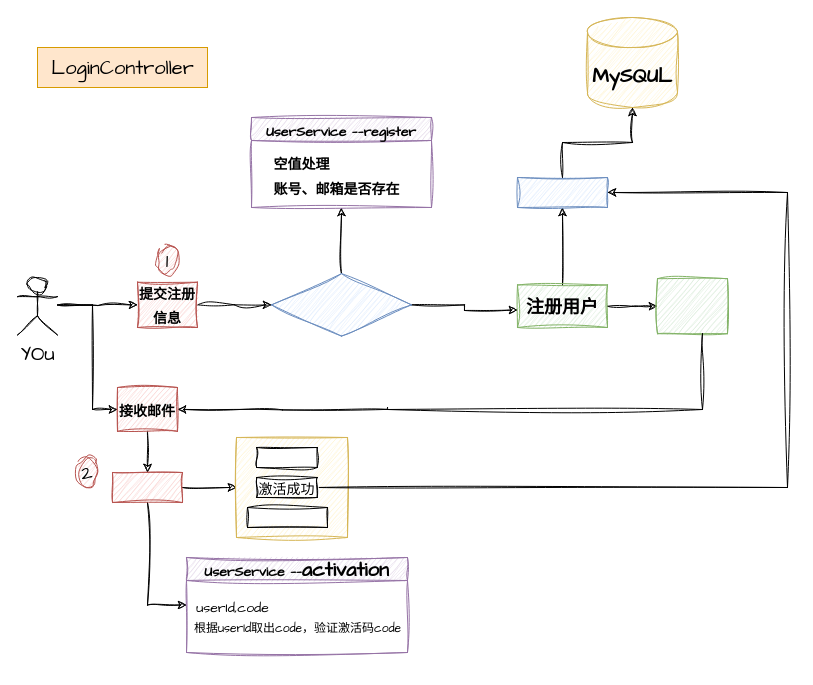
Image size: 813x685. Some labels were removed from this diagram. The shapes that lost their labels are listed below. From the top down, each one's centre as x and y in pixels, then its label:
[562,192]: UserMapper
[341,304]: 验证注册逻辑
[692,306]: 发送激活邮件
[286,457]: 重复激活
[147,487]: 激活
[287,517]: 激活码错误
